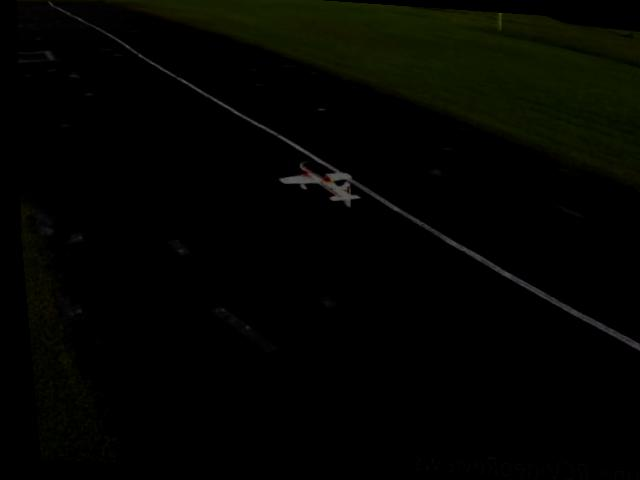uav: (262, 152, 364, 210)
